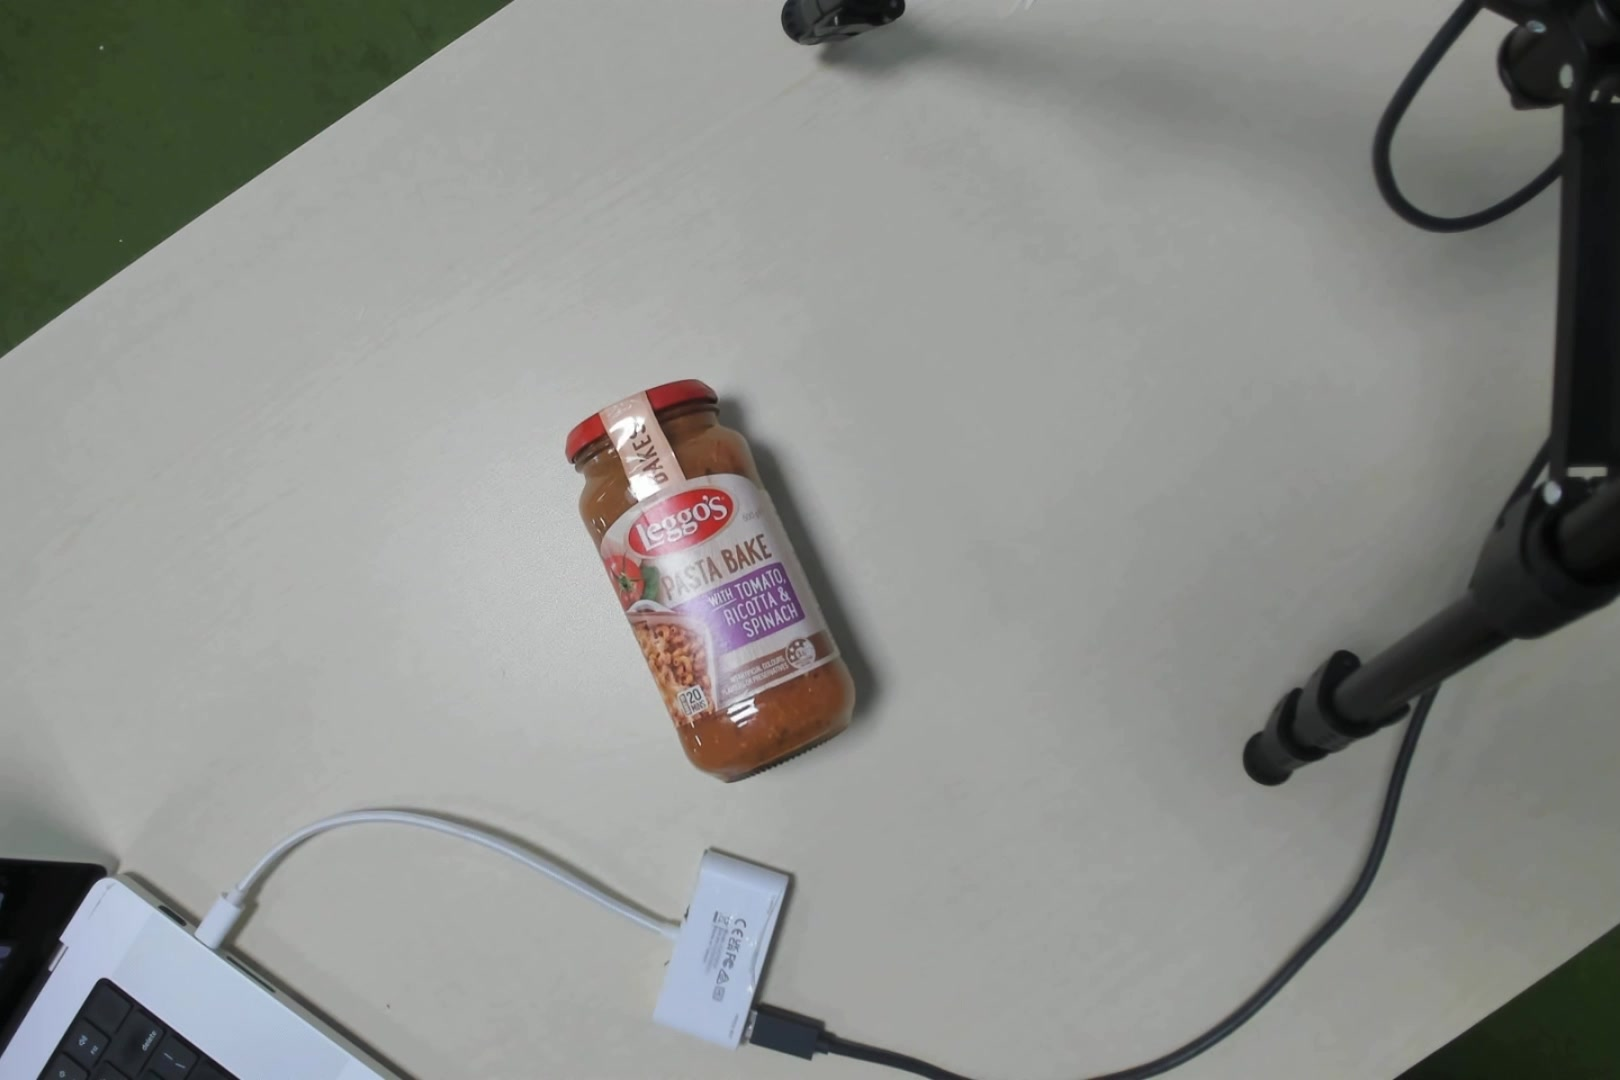Pasta_500-599g_Halal_NonHealthy: (592, 412, 837, 735)
